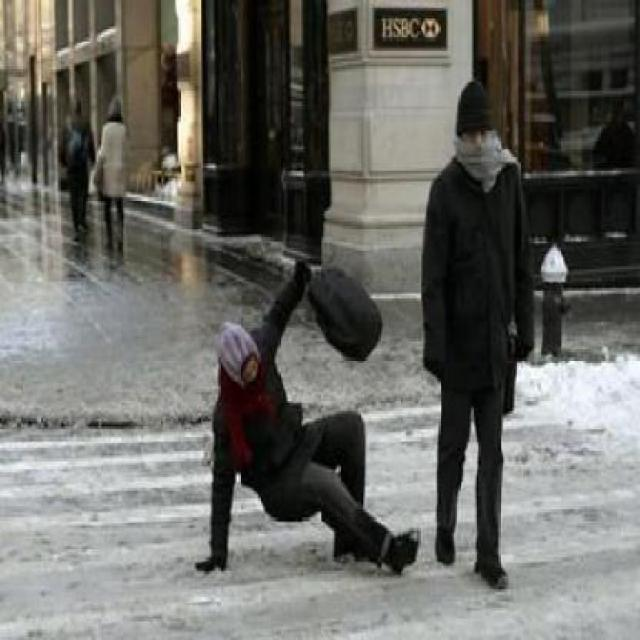fall: (185, 237, 412, 585)
